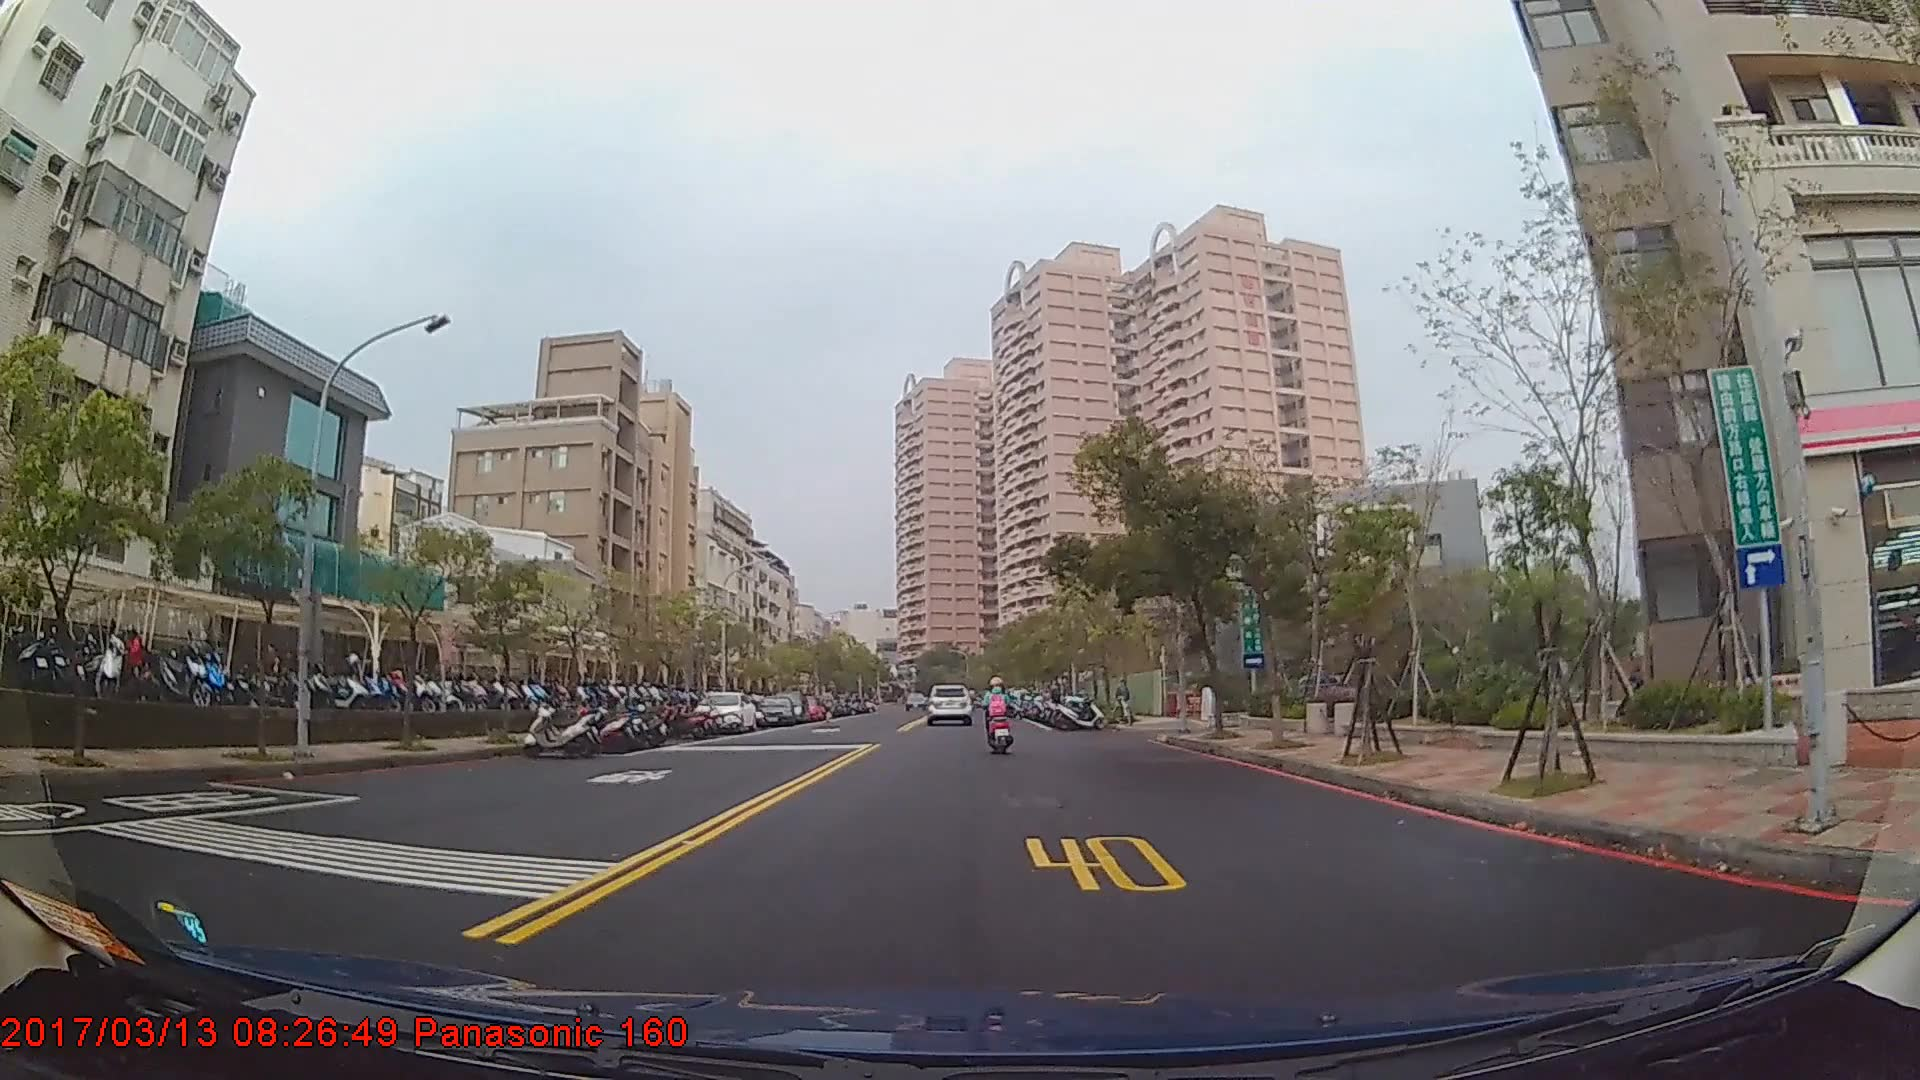pedestrian: (1115, 680, 1135, 725)
rider: (981, 679, 1015, 754)
vehicle: (695, 690, 757, 734), (922, 684, 973, 729), (752, 695, 797, 730)
